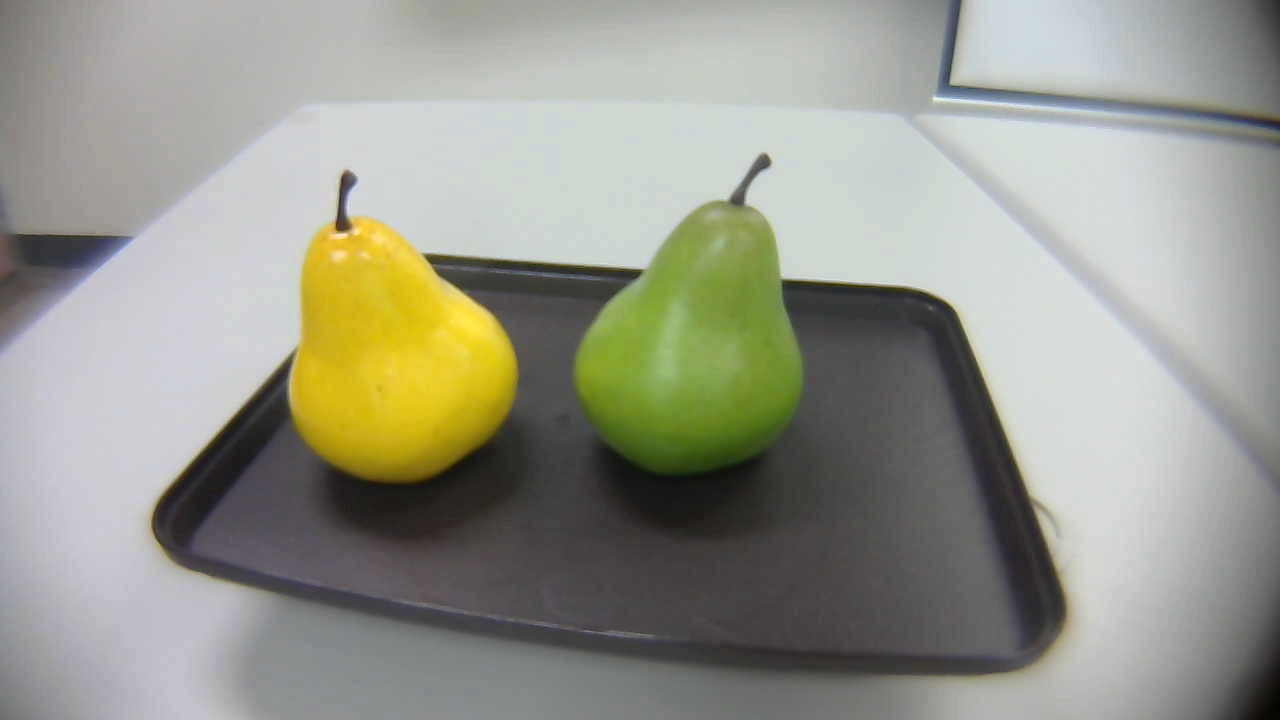green pear: (572, 155, 809, 476)
yellow pear: (272, 166, 538, 487)
